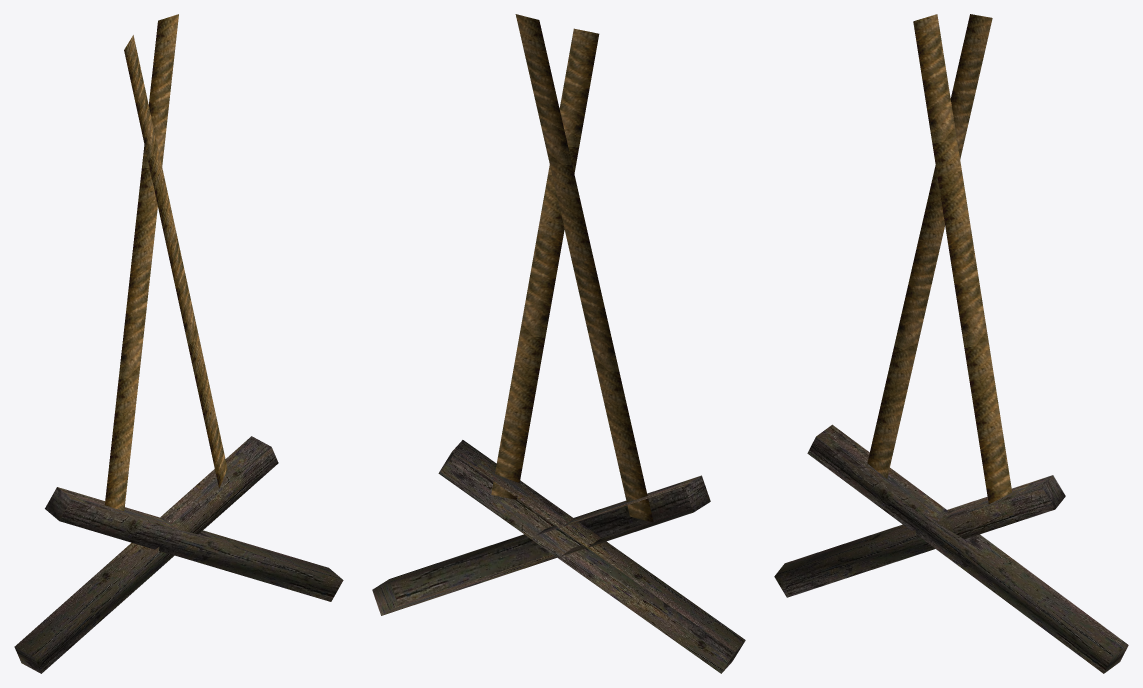
Rendered from OC_WEAPON_ARMORHOLDER.glb.
3 renders of one model, left to right at view 1: azimuth 30°, elevation 25°; view 2: azimuth 150°, elevation 25°; view 3: azimuth 330°, elevation 25°, orthographic. The views are drawn at different scales.
Parts seen in each view (by area): view 1: Mesh; view 2: Mesh; view 3: Mesh.
Part boxes in pixels (x1,y1,x2,y2): Mesh: (14, 14, 343, 673); Mesh: (372, 14, 745, 673); Mesh: (774, 14, 1128, 673).
Bounding box in the file's own units: 0.9891 × 1.74 × 0.1891.
2 materials, 2 textured.
